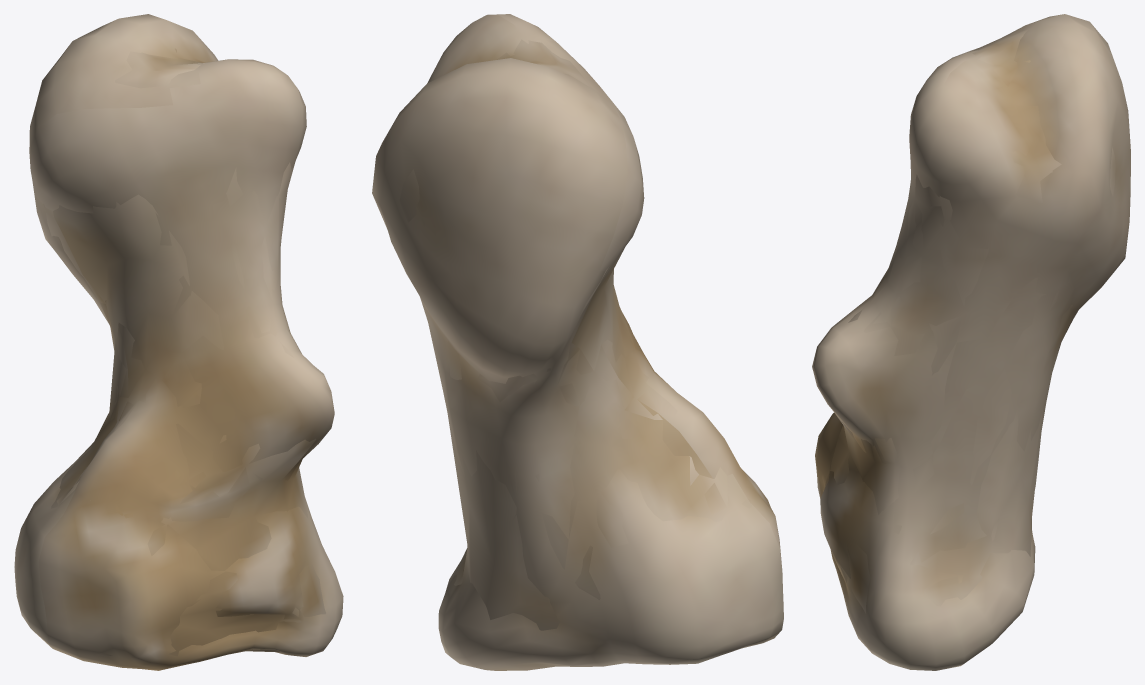
File: L calcaneus.fbx
3 renders of one model, left to right at view 1: azimuth 30°, elevation 25°; view 2: azimuth 150°, elevation 25°; view 3: azimuth 270°, elevation 25°, orthographic. The views are drawn at different scales.
Visible parts, largest first — view 1: L calcaneus, L calcaneus low; view 2: L calcaneus, L calcaneus low; view 3: L calcaneus, L calcaneus low.
Part boxes in pixels (x1,y1,x2,y2): L calcaneus: (14,14,343,670); L calcaneus low: (43,48,325,656); L calcaneus: (372,14,783,670); L calcaneus low: (399,39,751,665); L calcaneus: (812,14,1130,670); L calcaneus low: (822,29,1117,613).
Bounding box in the file's own units: 7.22 × 13.78 × 6.73.
